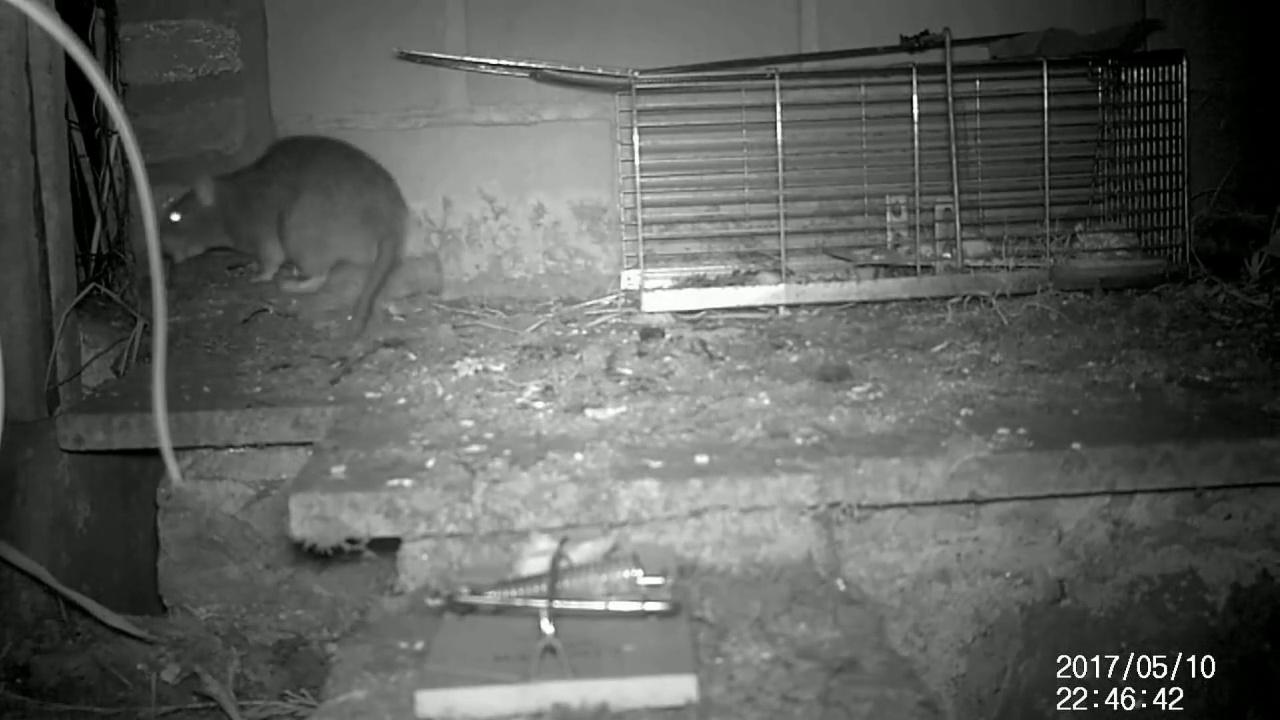rat: (154, 134, 403, 295)
